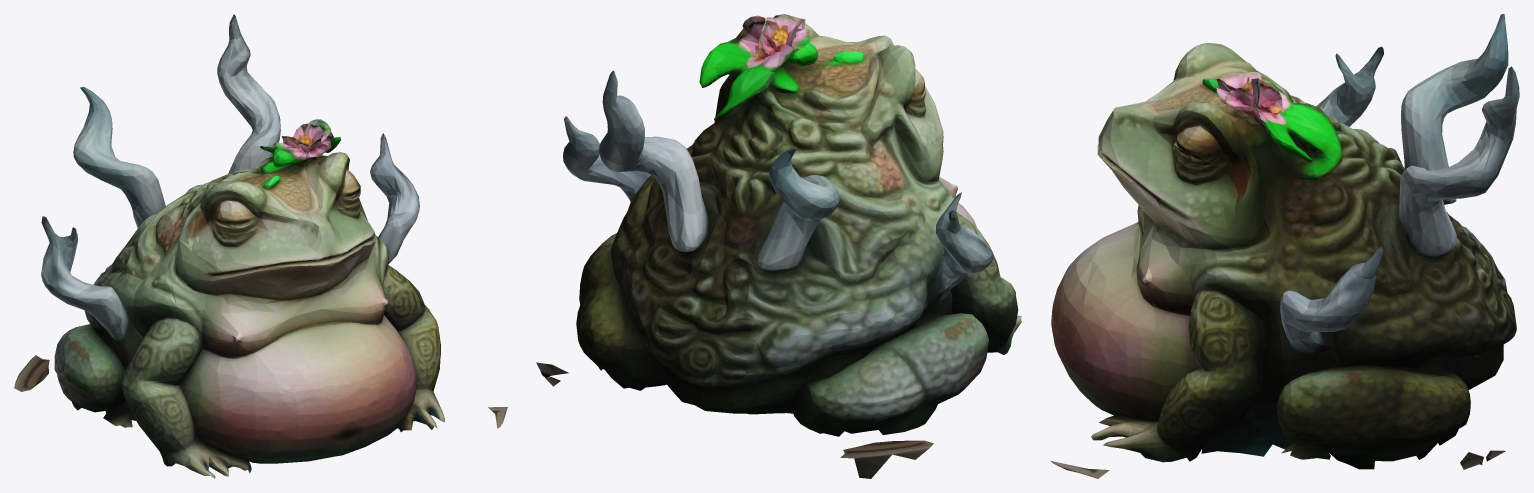
File: hotspringToad.glb
3 views of the same model, side by side, from view 1: azimuth 30°, elevation 25°; view 2: azimuth 150°, elevation 25°; view 3: azimuth 270°, elevation 25° (orthographic). The views are drawn at different scales.
Parts seen in each view (by area): view 1: world; view 2: world; view 3: world.
Boxes of the visible parts, x1,y1,x2,y2 form: world: [14, 14, 507, 478]; world: [536, 14, 1021, 478]; world: [1051, 14, 1519, 478].
Size of the model in its own units: 0.8519 by 0.6838 by 0.7755.
Materials: 1 (1 with a texture image).
